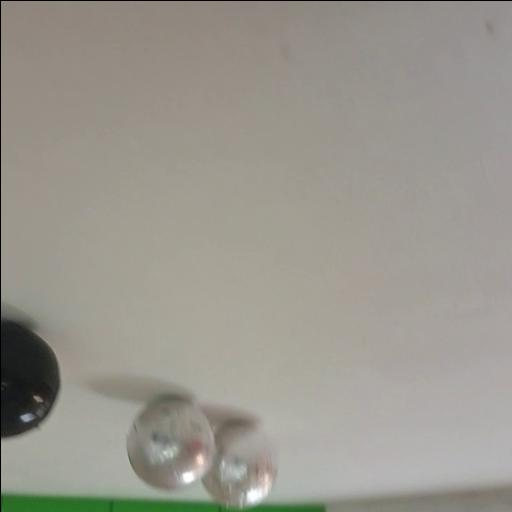alive: (126, 396, 216, 490), (200, 422, 276, 510)
dead: (2, 318, 62, 439)
